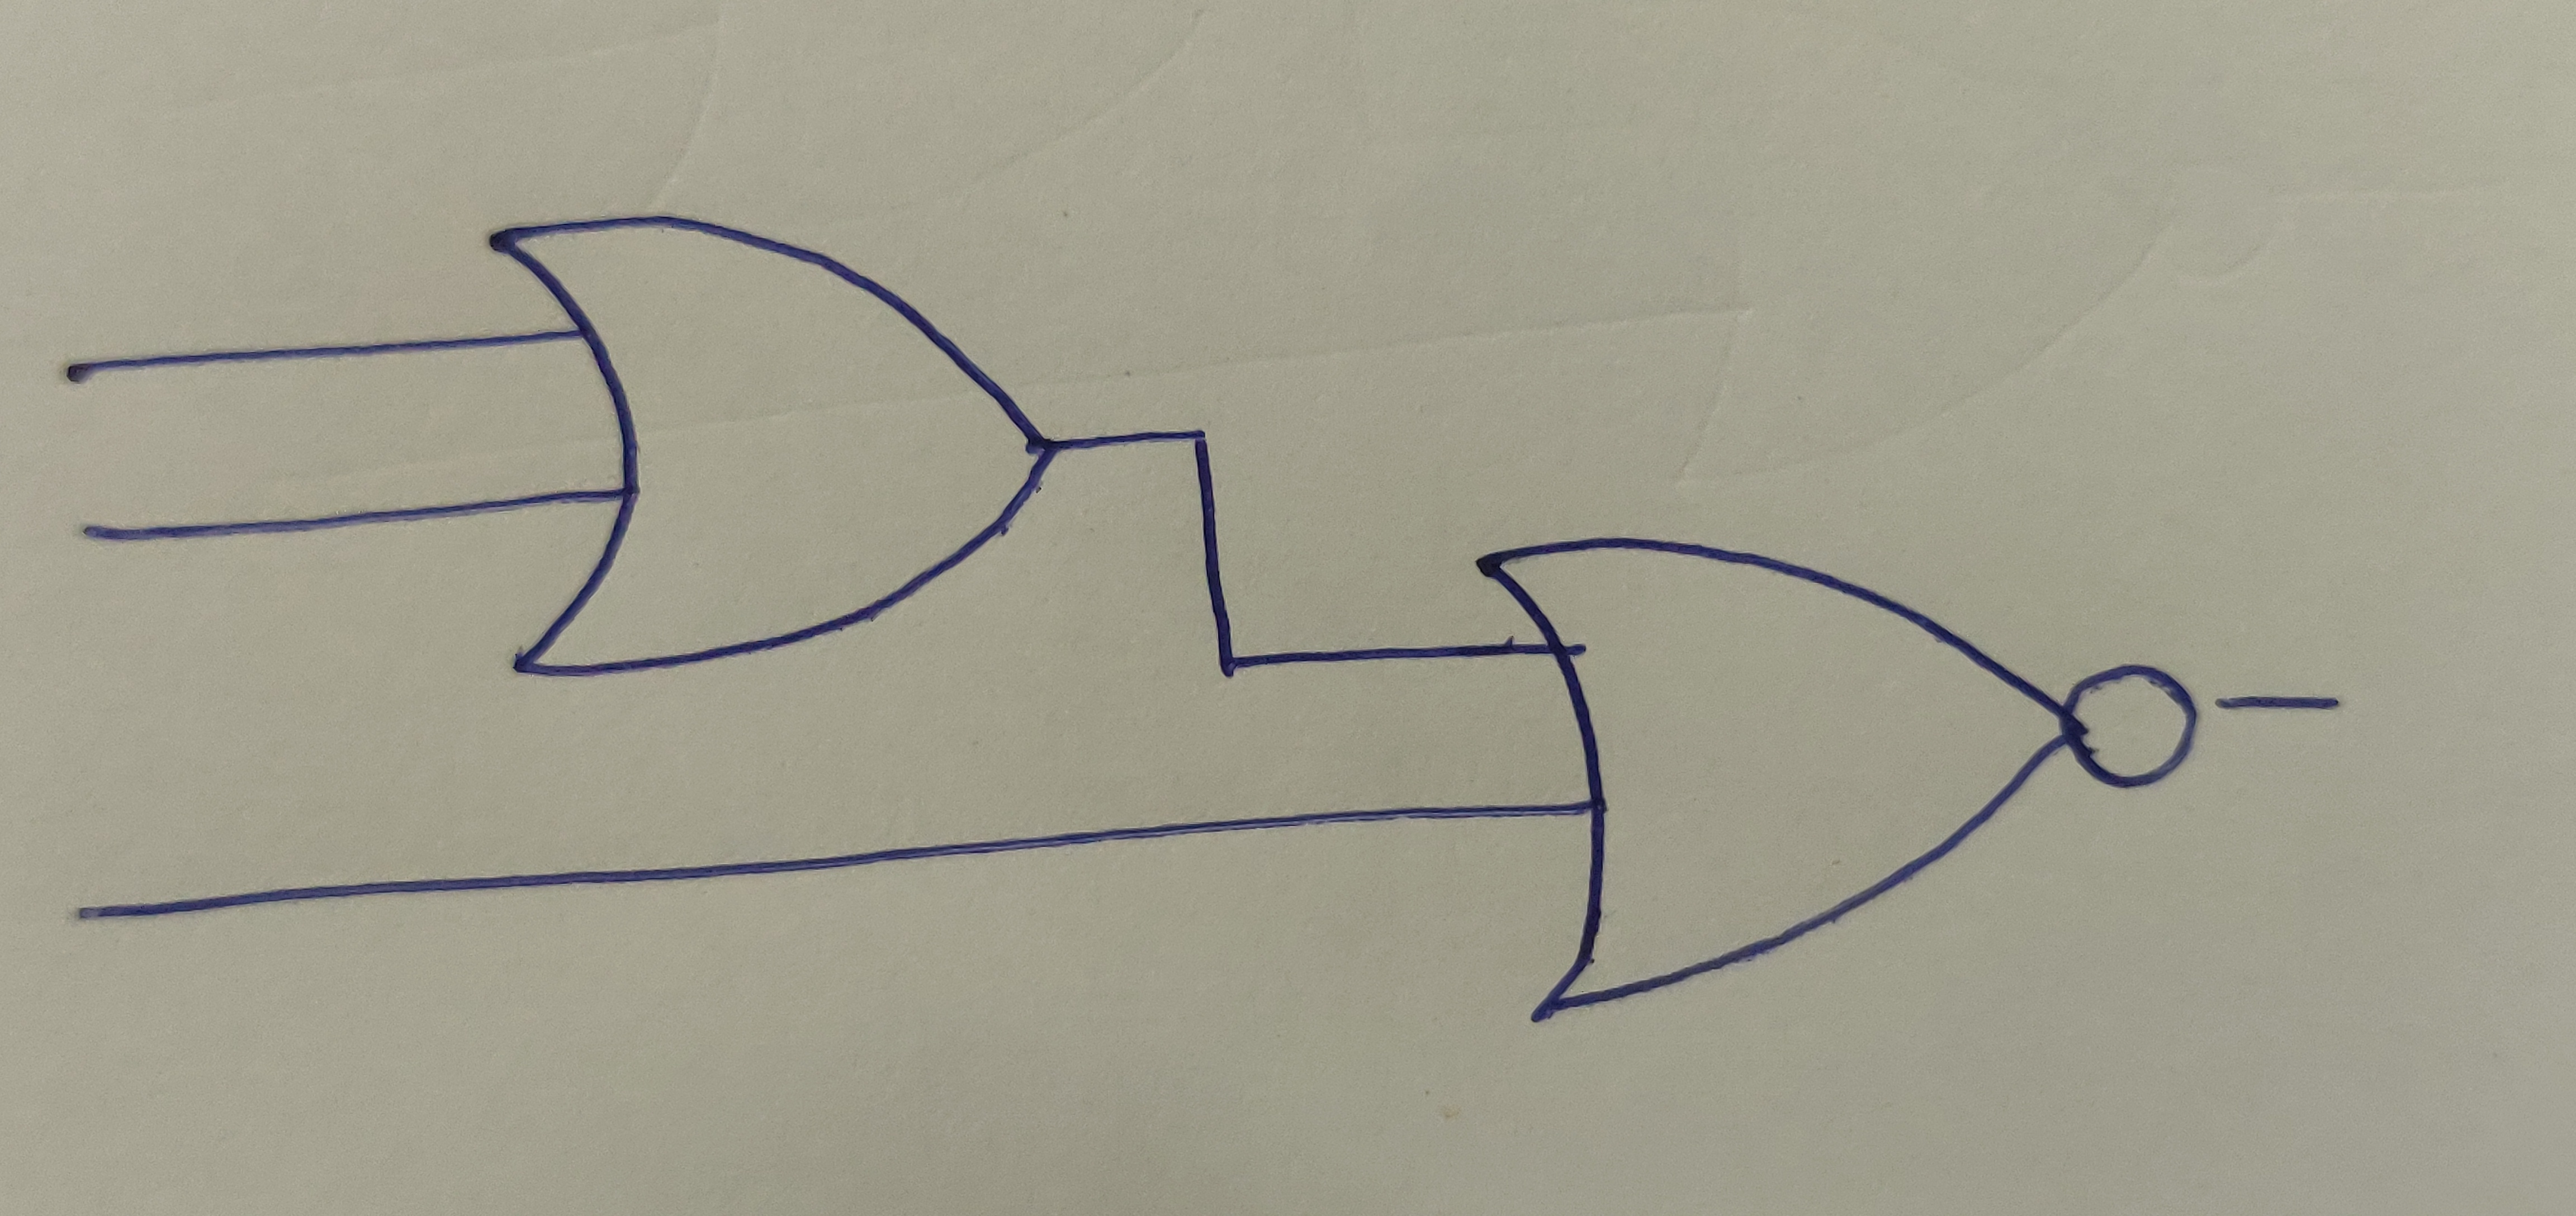not: (2068, 666, 2203, 790)
or: (1482, 534, 2078, 1014), (491, 222, 1060, 680)
